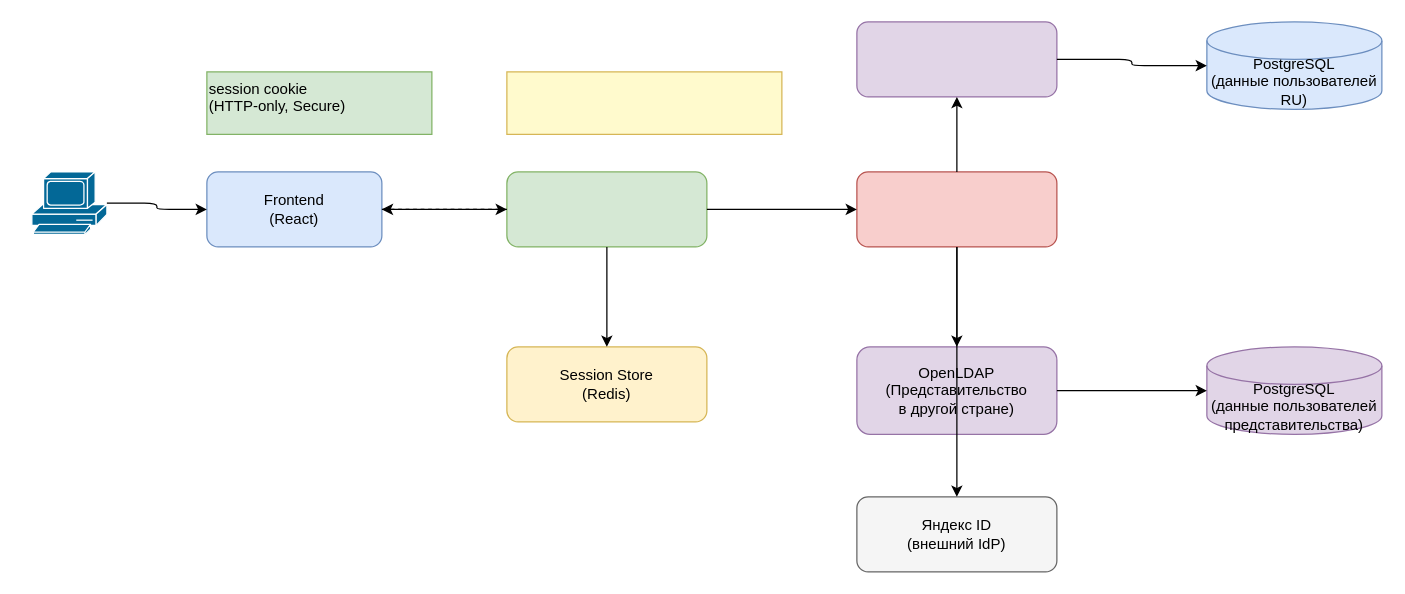
The diagram is 1405 pixels wide and 594 high, and some of its shapes have lost their labels. The shapes that lost their labels are listed below. From the top down, each one's box as (x1, y1, x2, y2) in pixels, then its label:
(856, 21, 1057, 97): OpenLDAP (Россия)
(506, 71, 782, 134): PKCE Code Grant (без передачи токенов фронтенду)
(506, 171, 707, 247): bionicpro-auth (новый бэкенд)
(856, 171, 1057, 247): Keycloak (IdP)
